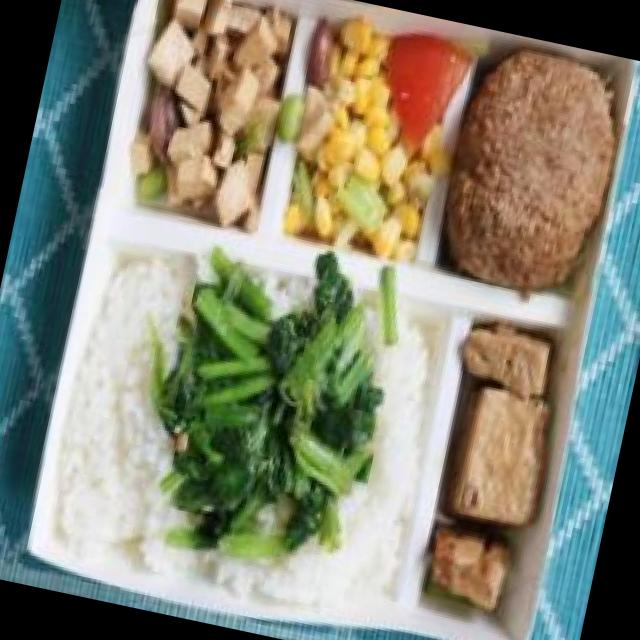rice: (35, 233, 214, 574), (323, 286, 460, 632)
